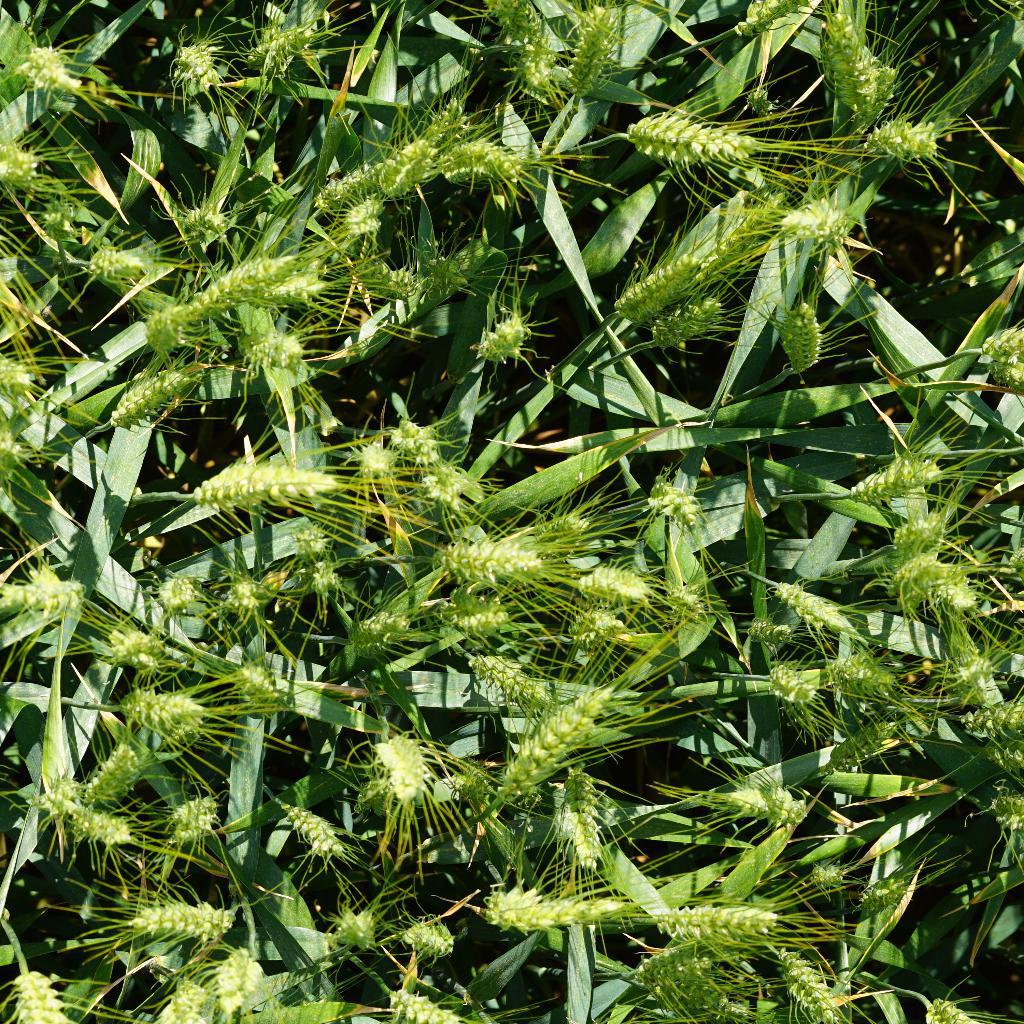0-0: (490, 677, 630, 802), (198, 451, 366, 522), (463, 642, 616, 718), (623, 101, 765, 174), (486, 884, 645, 940), (653, 885, 798, 946), (86, 347, 205, 421), (132, 279, 248, 351), (119, 878, 242, 945), (600, 243, 709, 313), (691, 197, 792, 272), (436, 519, 556, 579), (555, 765, 617, 881), (36, 777, 141, 845), (822, 449, 945, 507), (766, 577, 870, 644), (14, 29, 91, 118), (280, 785, 365, 864), (816, 0, 880, 104), (437, 120, 529, 191), (763, 291, 836, 376), (112, 676, 217, 735), (718, 774, 814, 838), (780, 942, 851, 1024), (71, 731, 148, 806), (0, 955, 82, 1024), (370, 713, 430, 807), (310, 155, 396, 220), (0, 577, 96, 634), (153, 784, 232, 852), (631, 473, 720, 533), (209, 946, 277, 1024), (570, 0, 628, 90), (844, 56, 903, 143), (962, 317, 1024, 399), (98, 612, 176, 676), (254, 0, 317, 78), (822, 716, 904, 775), (776, 195, 864, 249), (863, 115, 946, 172), (438, 589, 520, 646), (355, 593, 418, 666), (672, 972, 760, 1024), (881, 557, 967, 610), (717, 0, 817, 45), (462, 0, 546, 53), (393, 908, 463, 971), (139, 563, 212, 623), (650, 302, 740, 350), (470, 310, 546, 366), (358, 123, 430, 182), (851, 859, 928, 914), (627, 942, 716, 989), (384, 985, 489, 1024), (938, 648, 1001, 713), (660, 571, 733, 626), (568, 553, 651, 601), (172, 189, 240, 247), (742, 653, 815, 707), (428, 93, 486, 160), (377, 408, 444, 466), (163, 27, 221, 90), (146, 974, 215, 1024), (242, 328, 324, 370), (921, 562, 985, 615), (336, 195, 400, 247), (830, 646, 899, 694), (888, 516, 946, 572), (978, 779, 1024, 846), (508, 37, 558, 96), (542, 499, 606, 544), (331, 901, 377, 963), (0, 137, 47, 197), (968, 692, 1024, 741), (281, 517, 341, 562), (975, 726, 1024, 781), (442, 757, 494, 805), (35, 195, 83, 247), (339, 436, 393, 482), (414, 467, 478, 504), (299, 554, 347, 602), (223, 567, 269, 616), (0, 343, 41, 397), (572, 605, 636, 638), (743, 614, 798, 650), (806, 860, 849, 895), (745, 83, 775, 119)
